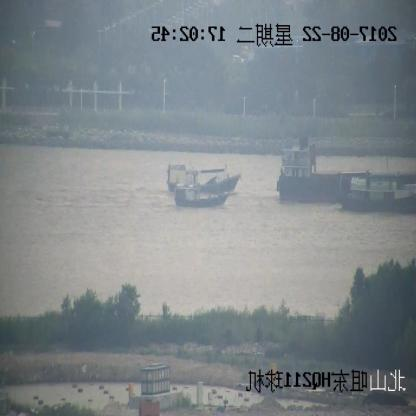Fishing Boat: (338, 172, 416, 212), (167, 161, 242, 196), (176, 183, 228, 209)
